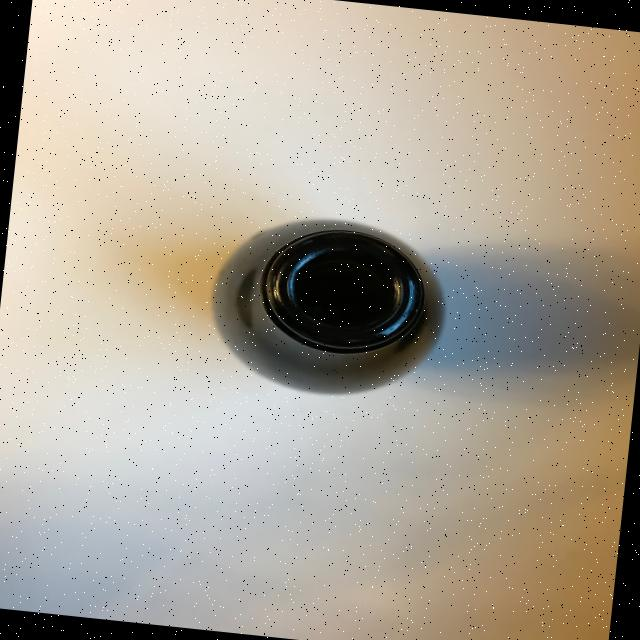glass: (196, 202, 454, 408)
